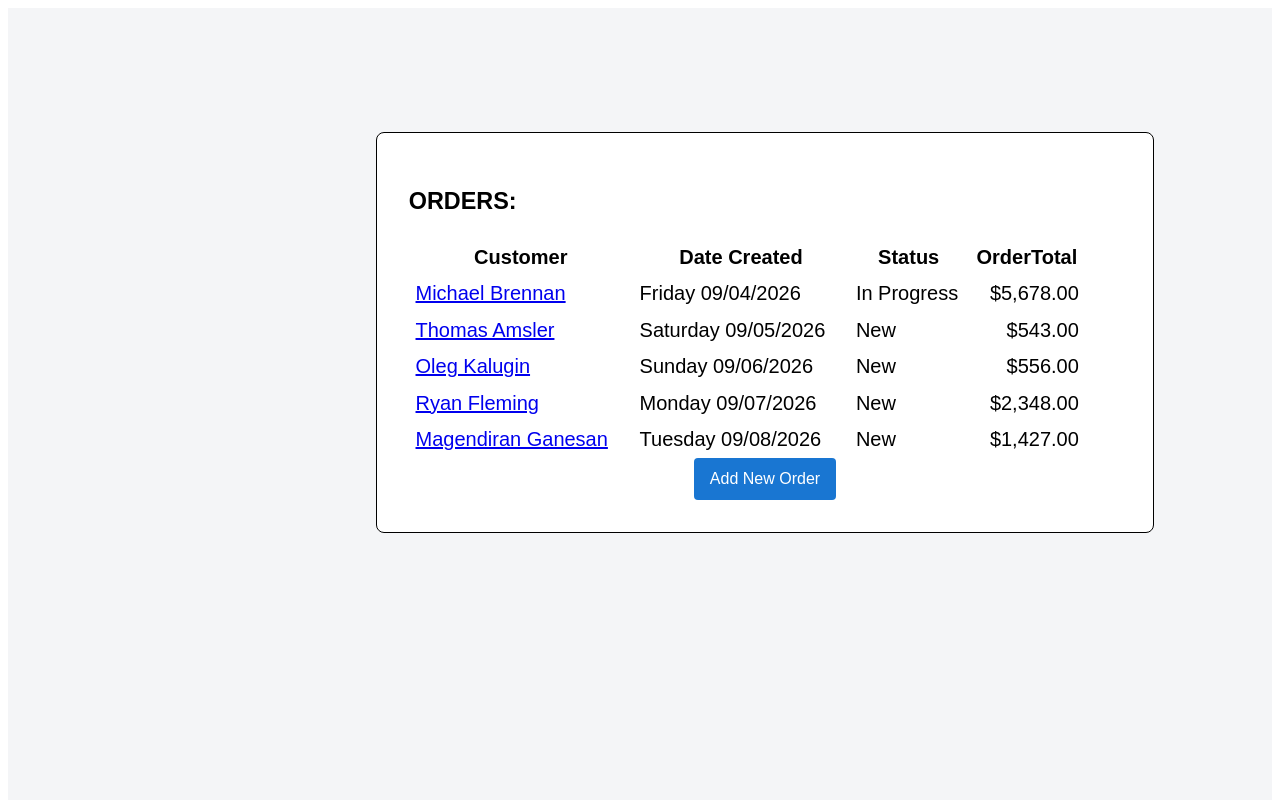
Test case: Test the Signal forms Practice App › Navigates back to the Order List
Click the button with test id "addNewOrderButton". click: (766, 479)
box: [694, 458, 837, 500]
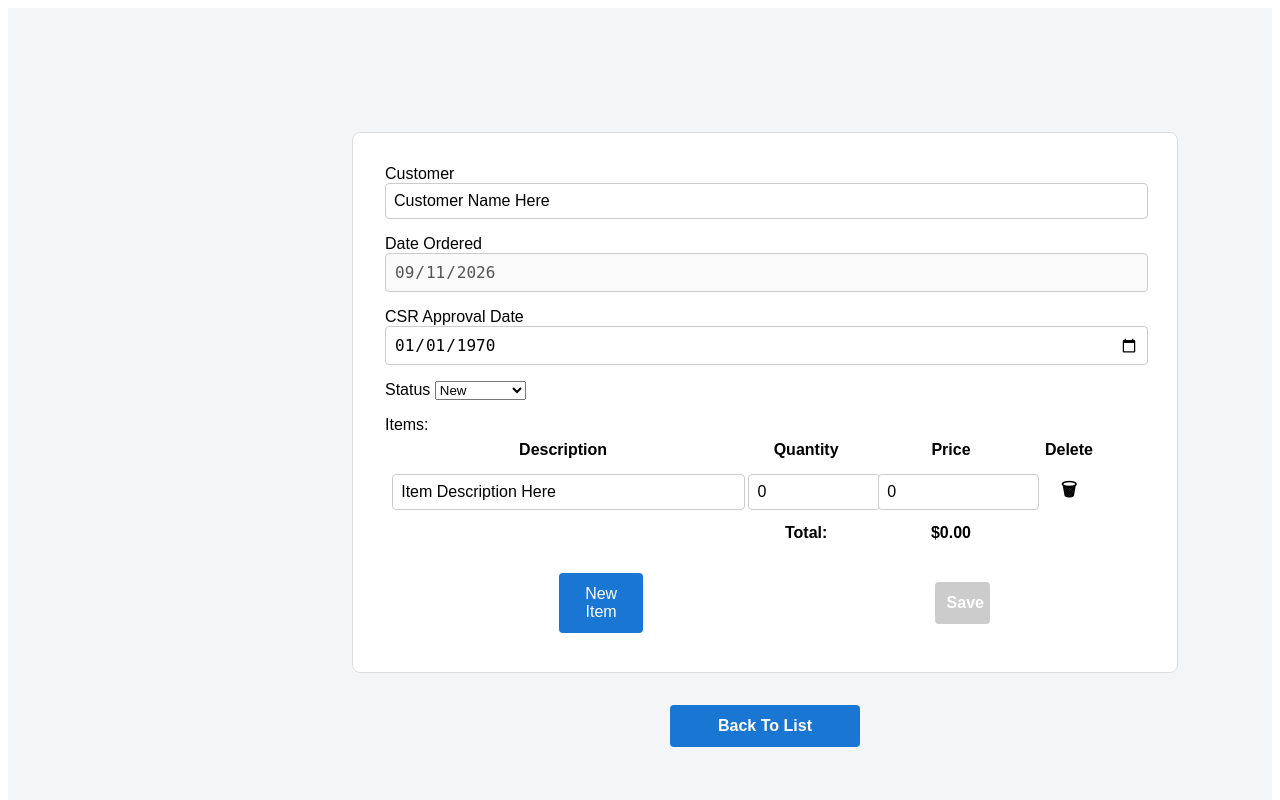
Click the button with test id "backToListButton". click: (765, 726)
box: [670, 705, 860, 747]
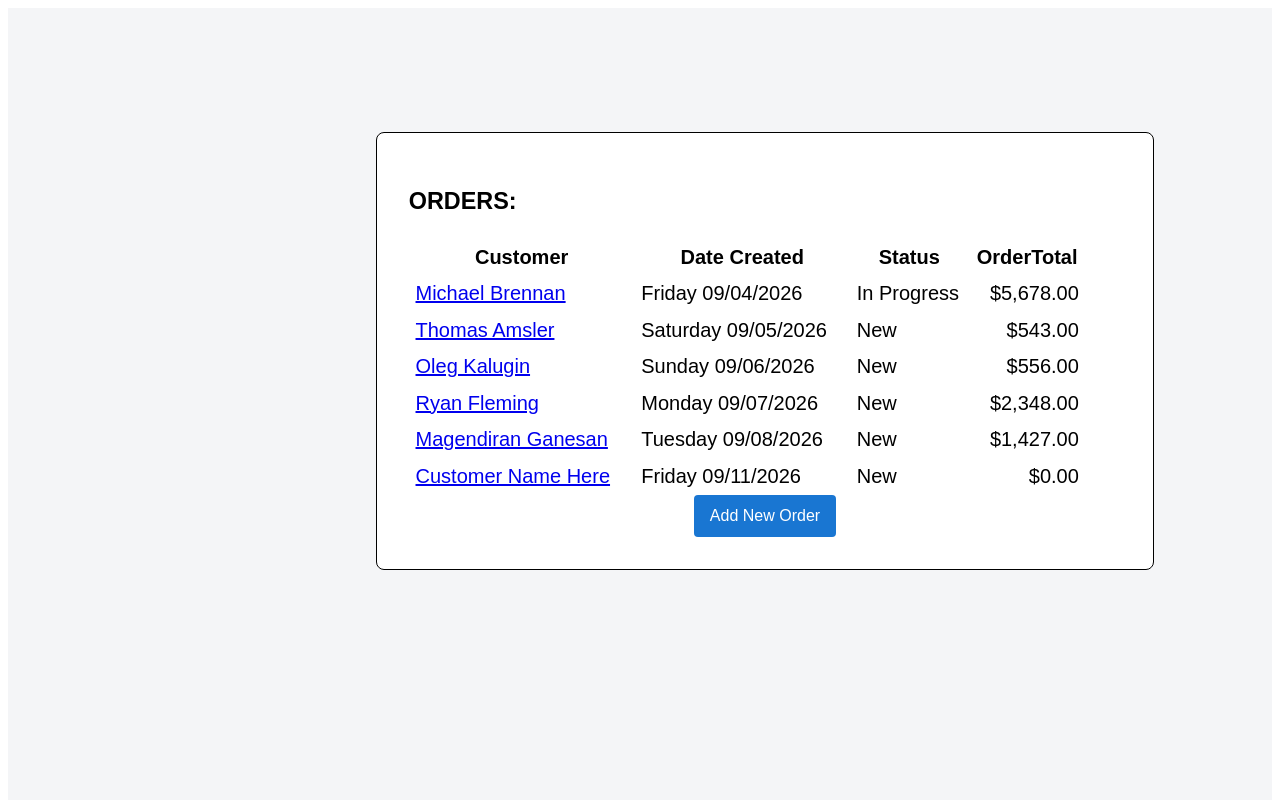
Now the link with test id "customerName" reads "Customer Name Here", box [416, 465, 611, 487]
